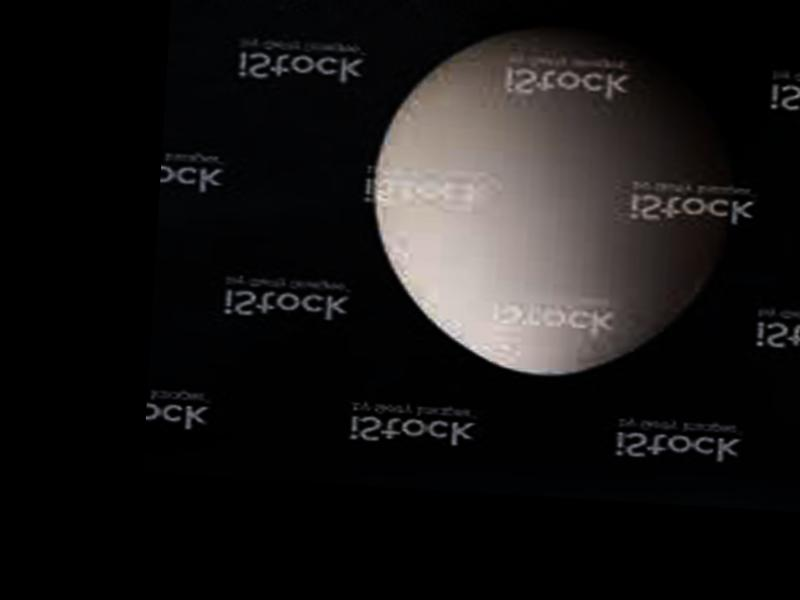Eggs: (363, 13, 743, 386)
